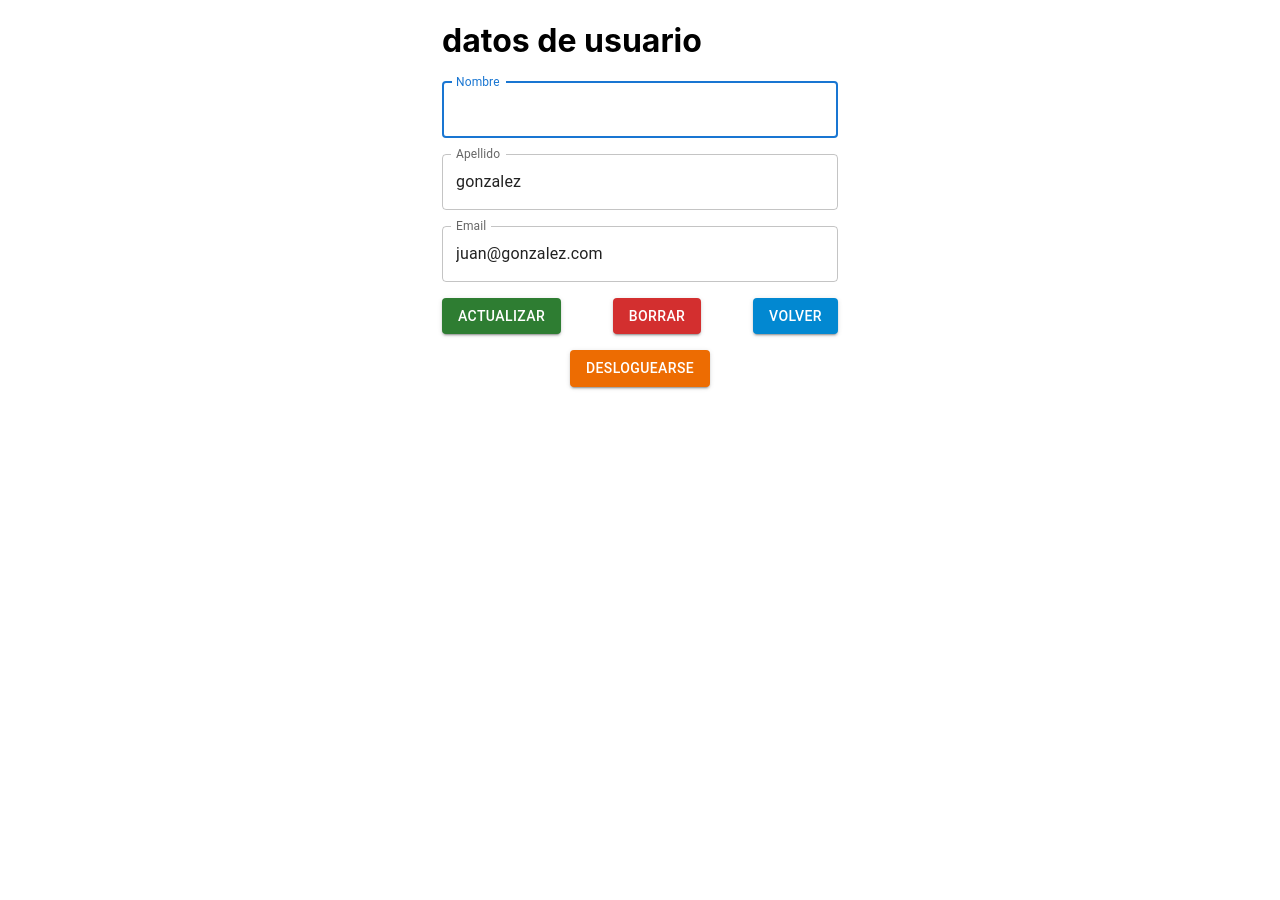
Test: UserDetail page › Should open the success modal when you submit the update data
Step 1. Type "adrian" into the field labelled "Nombre" → (640,110), box [442,82,838,138]
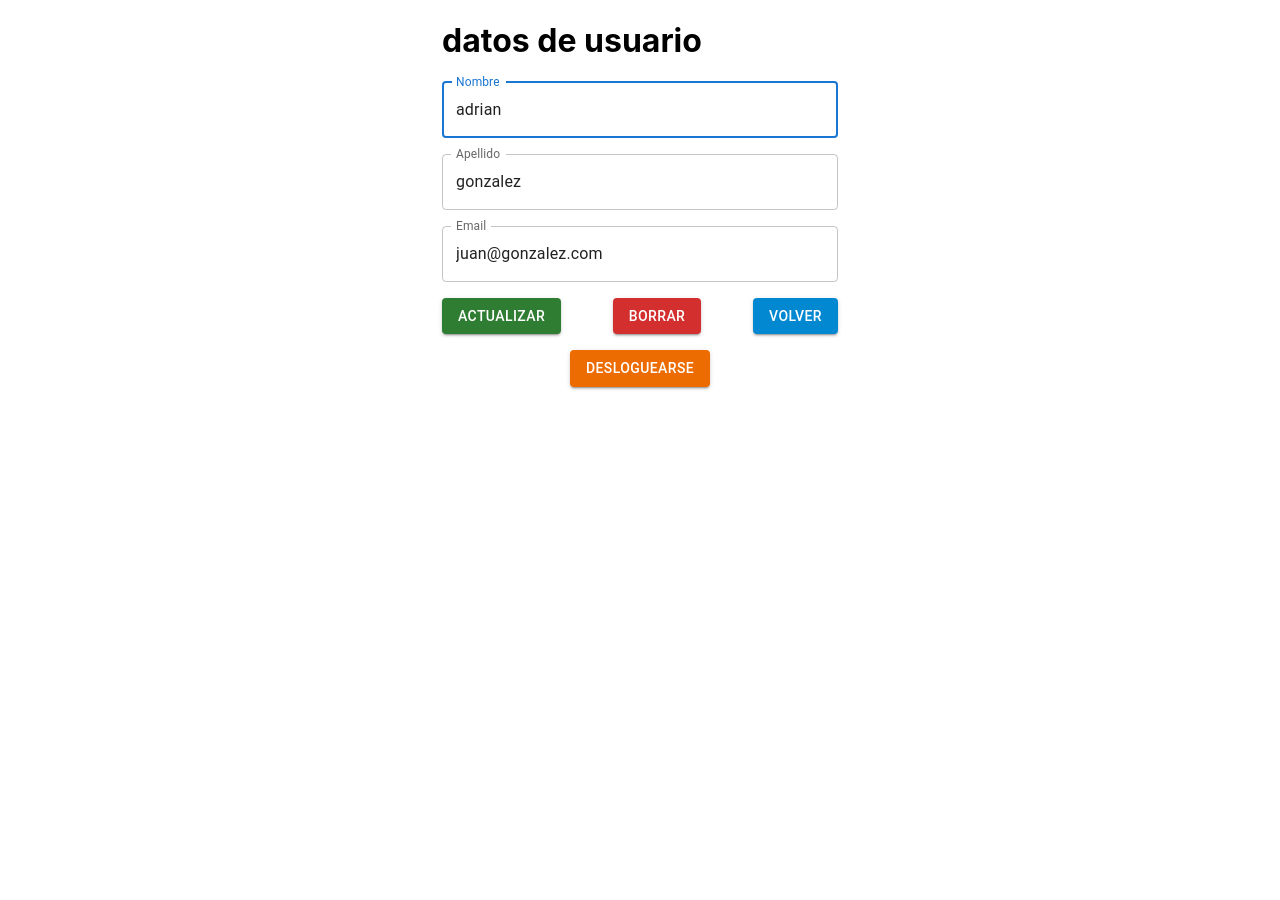
Step 2. Type "martinez" into the field labelled "Apellido" → (640,182), box [442,154,838,210]
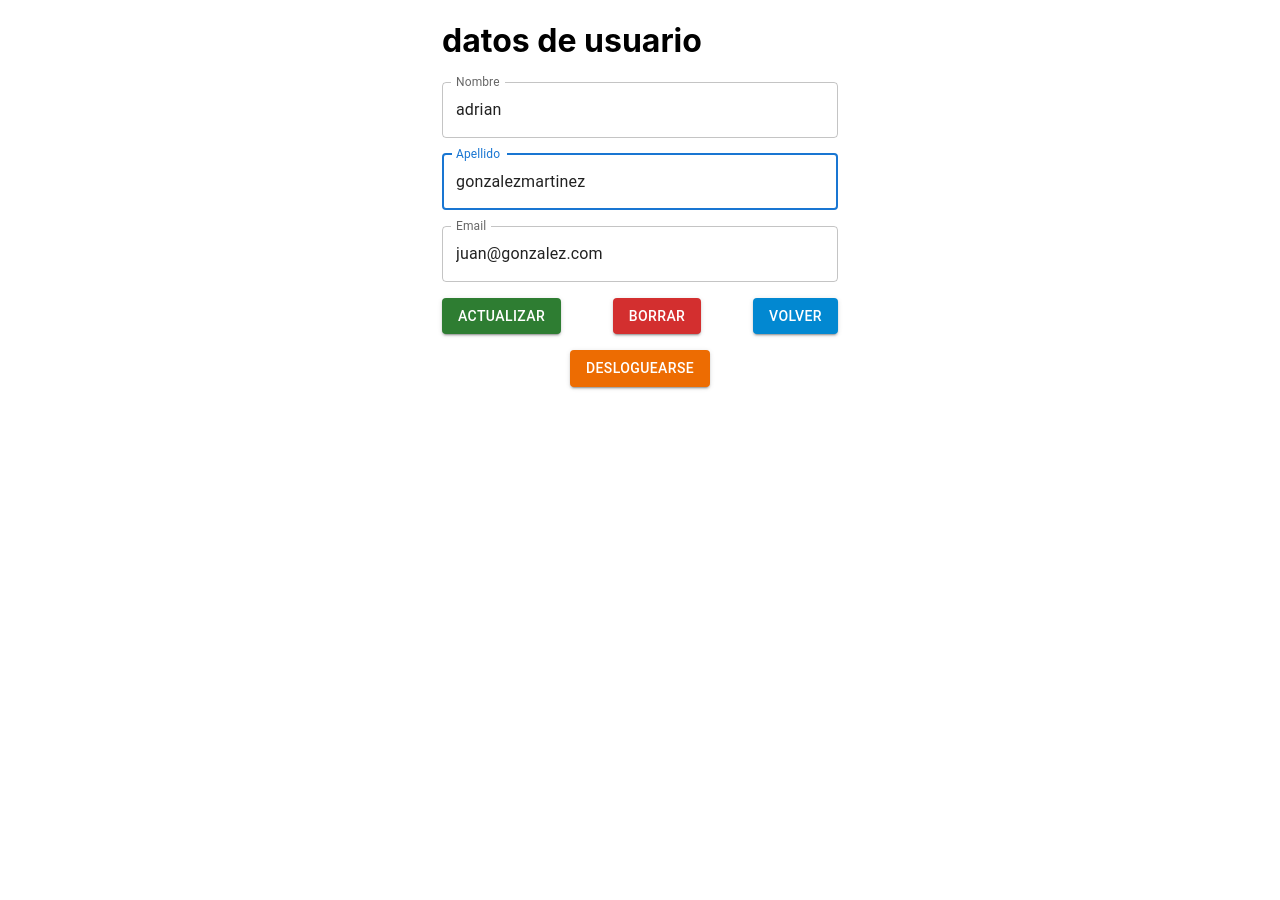
Step 3. Type "adrian@adrian.com" into the field labelled "Email" → (640,254), box [442,226,838,282]
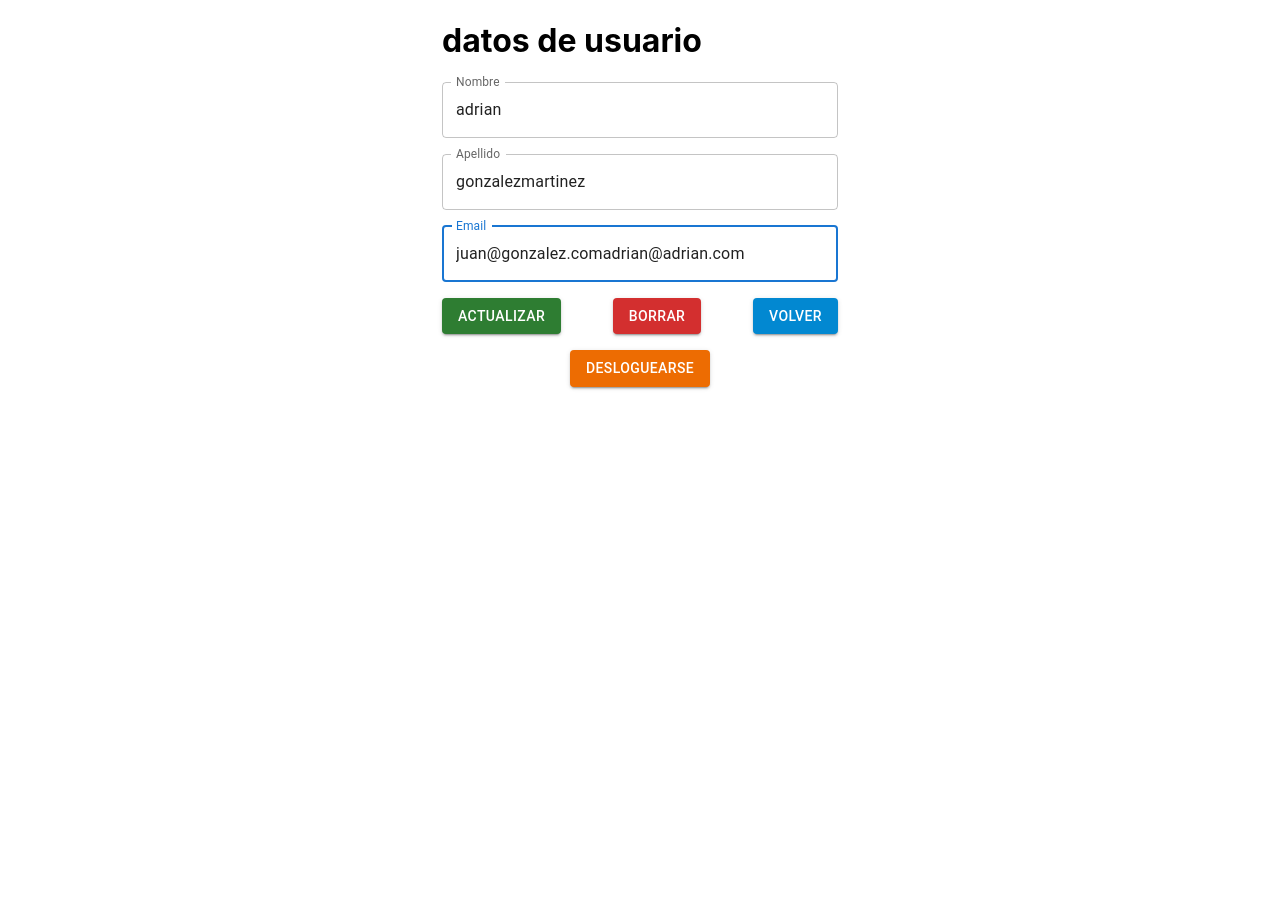
Step 4. Click the button "Actualizar" → (502,316), box [442,298,561,334]
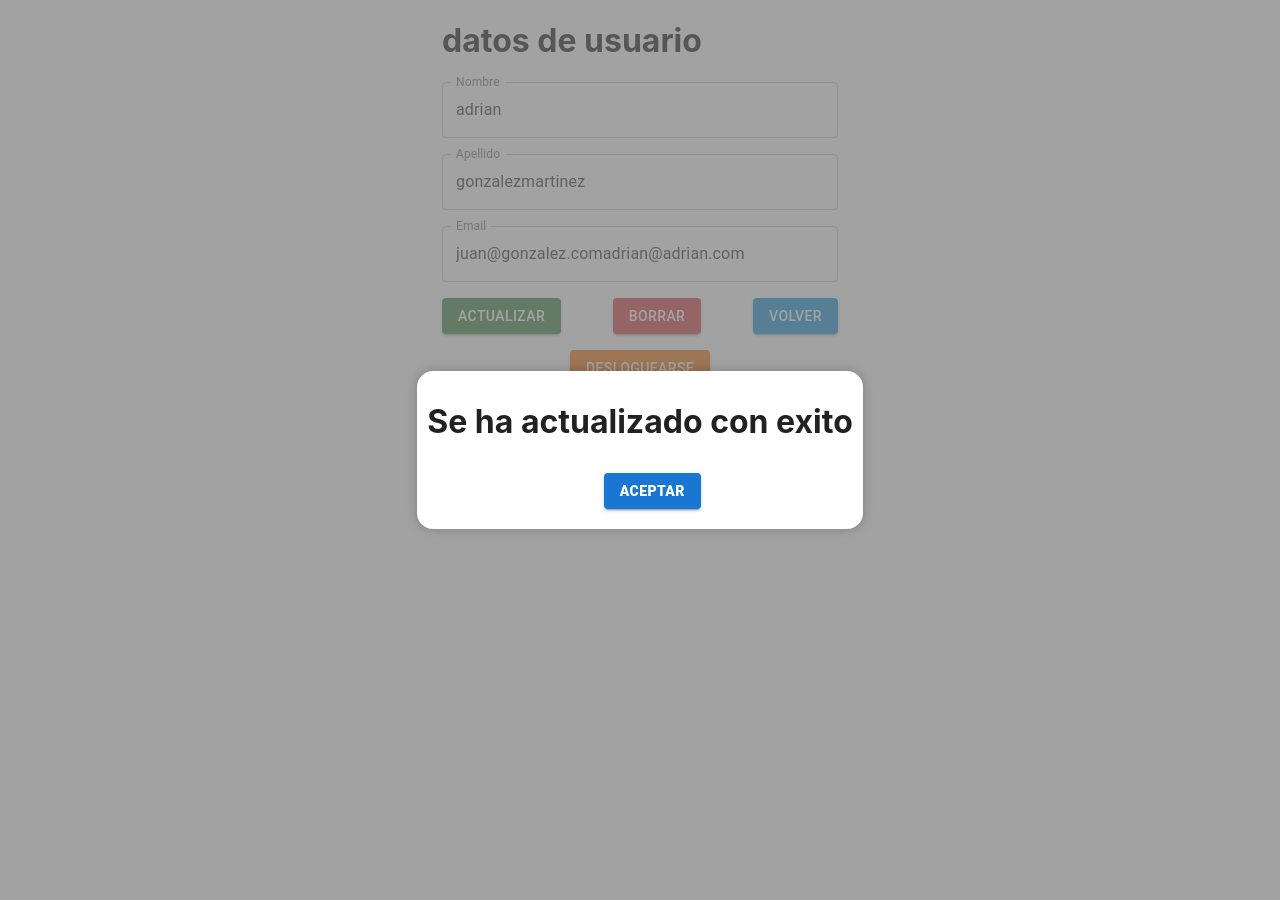
Expected: the heading "Se ha actualizado con exito" is shown, [417,392,863,451]
